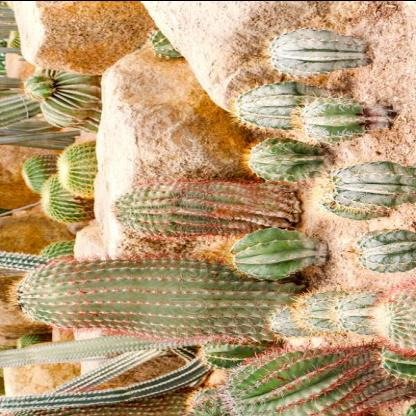Cactus: (265, 23, 373, 76), (229, 78, 323, 132), (323, 159, 416, 211), (241, 134, 329, 184), (232, 230, 311, 279), (298, 97, 376, 143), (349, 226, 416, 273), (56, 138, 102, 197), (332, 288, 388, 336), (373, 288, 416, 349), (42, 174, 90, 224), (298, 289, 344, 334), (19, 152, 59, 196), (268, 302, 306, 336), (22, 72, 56, 102)
